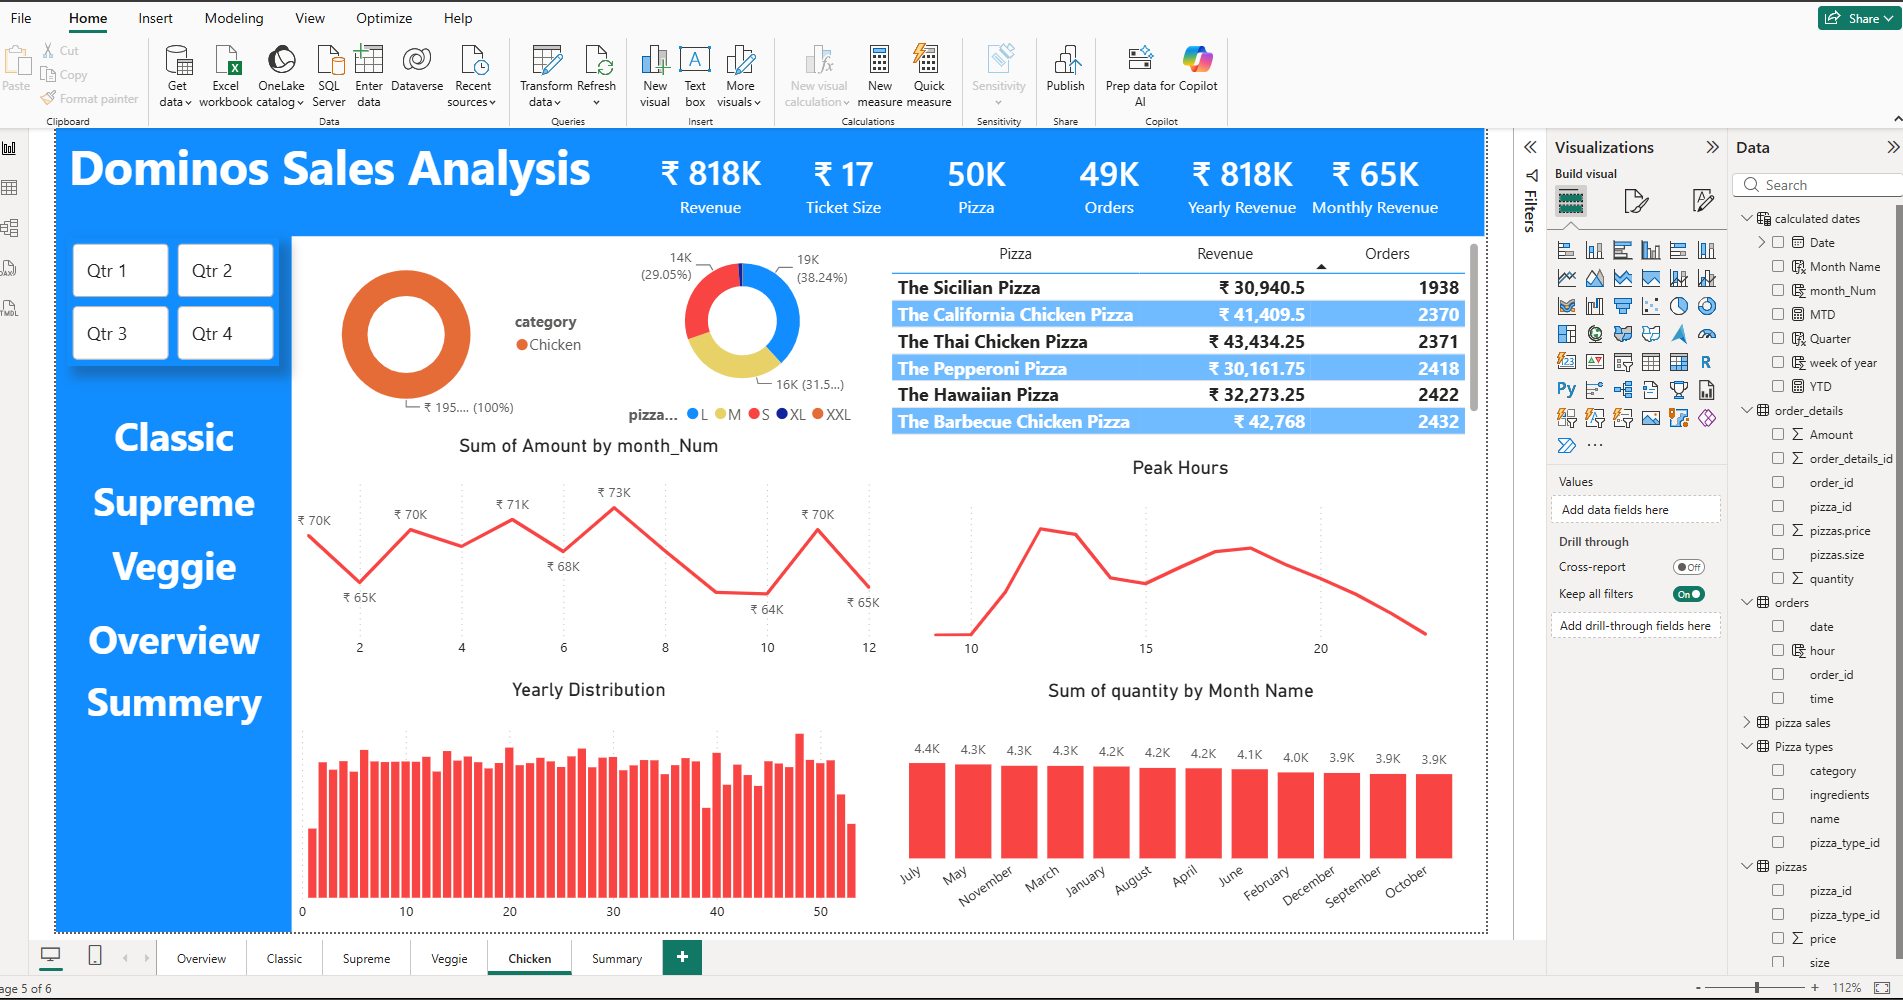

The dashboard page shown, as its layout file describes it:
{"tool":"powerbi","page":{"name":"Chicken","canvas":[1280,720],"ordinal":4},"visuals":[{"type":"shape","box":[0,0,211.4,720],"z":0},{"type":"shape","box":[204.6,0,1075.4,96.9],"z":1000},{"type":"textbox","box":[0,0,490,96.2],"z":2000},{"type":"cardVisual","fields":{"Data":["Sum(order_details.Amount)","Avg(order_details.Amount)","Sum(order_details.quantity)","CountNonNull(order_details.order_id)","calculated dates.YTD","calculated dates.MTD"]},"box":[490,0,790,98.6],"z":3000},{"type":"donutChart","title":"Category Wise Revenue","fields":{"Category":["Pizza types.category"],"Y":["Sum(order_details.Amount)"]},"box":[211.3,95.8,278.5,178.2],"z":4000},{"type":"advancedSlicerVisual","fields":{"Values":["calculated dates.Quarter"]},"box":[10,98.5,190,114.6],"z":5000},{"type":"columnChart","title":"Yearly Distribution","fields":{"Y":["Sum(order_details.Amount)"],"Category":["calculated dates.week of year"]},"box":[211.4,492.9,531.4,227.1],"z":6000},{"type":"lineChart","fields":{"Y":["Sum(order_details.Amount)"],"Category":["calculated dates.month_Num"]},"box":[211.4,274.3,531.4,210],"z":7000},{"type":"donutChart","fields":{"Category":["order_details.pizzas.size"],"Y":["Sum(order_details.quantity)"]},"box":[496.1,99.4,237.1,175.7],"z":8000},{"type":"tableEx","fields":{"Values":["Pizza types.name","Sum(order_details.Amount)","Sum(order_details.quantity)"]},"box":[742.4,97.6,537.3,184.5],"z":9000},{"type":"lineChart","title":"Peak Hours","fields":{"Category":["orders.hour"],"Y":["CountNonNull(order_details.order_details_id)"]},"box":[741.5,293.7,531,190.7],"z":10000},{"type":"columnChart","fields":{"Category":["calculated dates.Month Name"],"Y":["Sum(order_details.quantity)"]},"box":[742,493,530,227],"z":11000},{"type":"actionButton","box":[21.4,247.1,168.6,55.7],"z":12000},{"type":"actionButton","box":[21.4,305.7,168.6,55.7],"z":13000},{"type":"actionButton","box":[21.4,362.9,168.6,55.7],"z":14000},{"type":"actionButton","box":[21.1,428.9,168.6,55.7],"z":15000},{"type":"actionButton","box":[21.4,484.3,168.6,55.7],"z":16000}]}

Visuals, with their boxes on the page's 1280x720 design canvas (x1, y1, x2, y2). These are canvas units, not pixel positions in the 1903x1000 screenshot, which may show the page scaled, cropped or inside an application window:
shape: region(0, 0, 211, 720)
shape: region(205, 0, 1280, 97)
textbox: region(0, 0, 490, 96)
cardVisual - Sum(order_details.Amount) x Avg(order_details.Amount): region(490, 0, 1280, 99)
"Category Wise Revenue" donutChart: region(211, 96, 490, 274)
advancedSlicerVisual - calculated dates.Quarter: region(10, 98, 200, 213)
"Yearly Distribution" columnChart: region(211, 493, 743, 720)
lineChart - Sum(order_details.Amount) x calculated dates.month_Num: region(211, 274, 743, 484)
donutChart - order_details.pizzas.size x Sum(order_details.quantity): region(496, 99, 733, 275)
tableEx - Pizza types.name x Sum(order_details.Amount): region(742, 98, 1280, 282)
"Peak Hours" lineChart: region(742, 294, 1272, 484)
columnChart - calculated dates.Month Name x Sum(order_details.quantity): region(742, 493, 1272, 720)
actionButton: region(21, 247, 190, 303)
actionButton: region(21, 306, 190, 361)
actionButton: region(21, 363, 190, 419)
actionButton: region(21, 429, 190, 485)
actionButton: region(21, 484, 190, 540)
